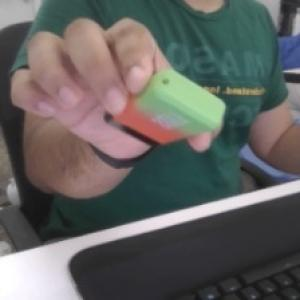Swift-E-Ciggirate: (116, 66, 230, 146)
